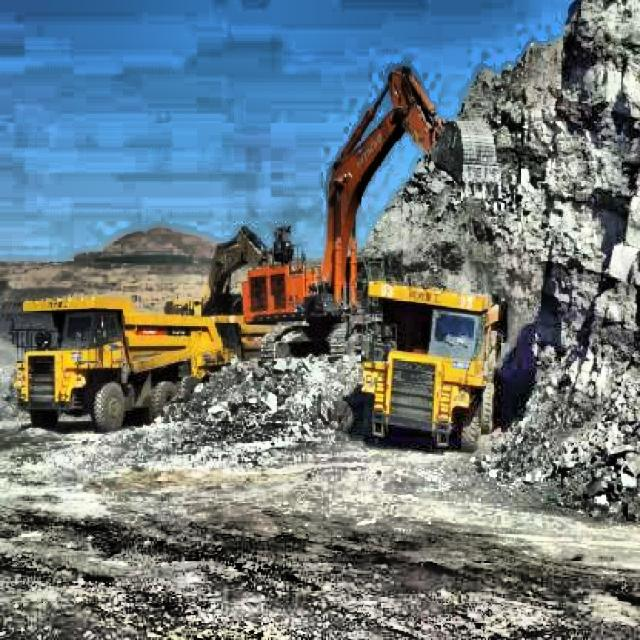dump_truck: (15, 277, 238, 424), (363, 266, 525, 453)
excavator: (241, 49, 507, 368)
